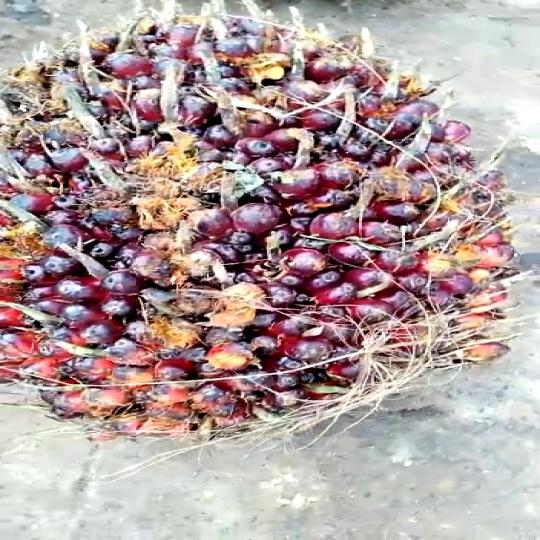kurang masak: (0, 0, 540, 454)
